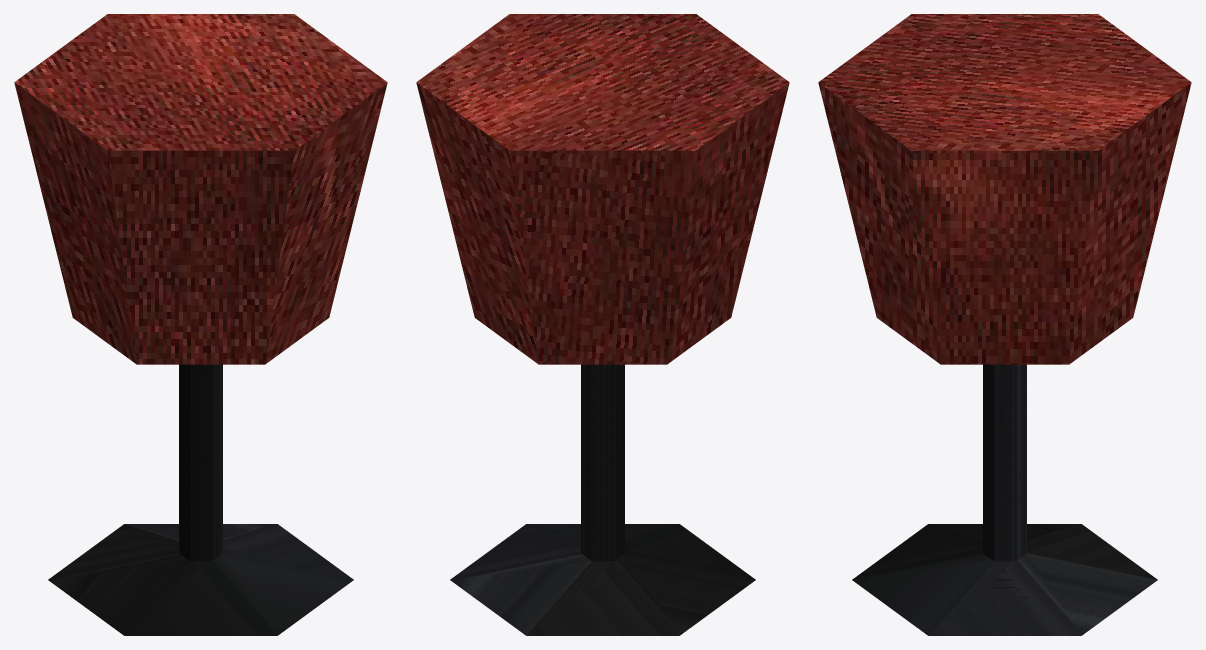
File: clubstool.glb
The picture shows the model from 3 angles, left to right: view 1: azimuth 30°, elevation 25°; view 2: azimuth 150°, elevation 25°; view 3: azimuth 270°, elevation 25°; orthographic projection.
Parts seen in each view (by area): view 1: CHAIR; view 2: CHAIR; view 3: CHAIR.
Boxes of the visible parts, bbox=[...] form: CHAIR: bbox=[14, 14, 387, 635]; CHAIR: bbox=[416, 14, 789, 635]; CHAIR: bbox=[818, 14, 1191, 635].
Bounding box in the file's own units: 1.73 × 2.94 × 2.
2 materials, 2 textured.
